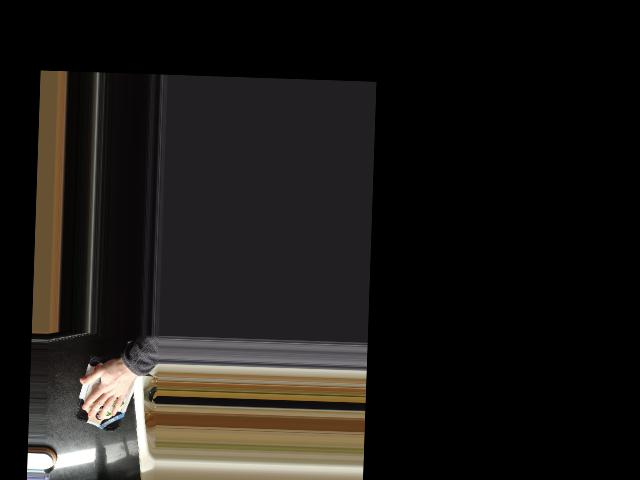cheese: (73, 354, 141, 433)
